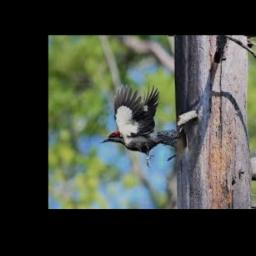Woodpecker: (99, 84, 181, 168)
